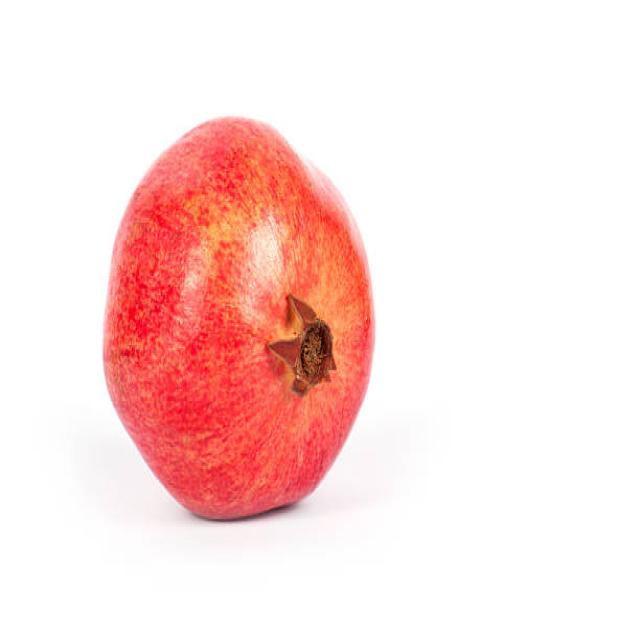Ripe: (98, 108, 378, 525)
